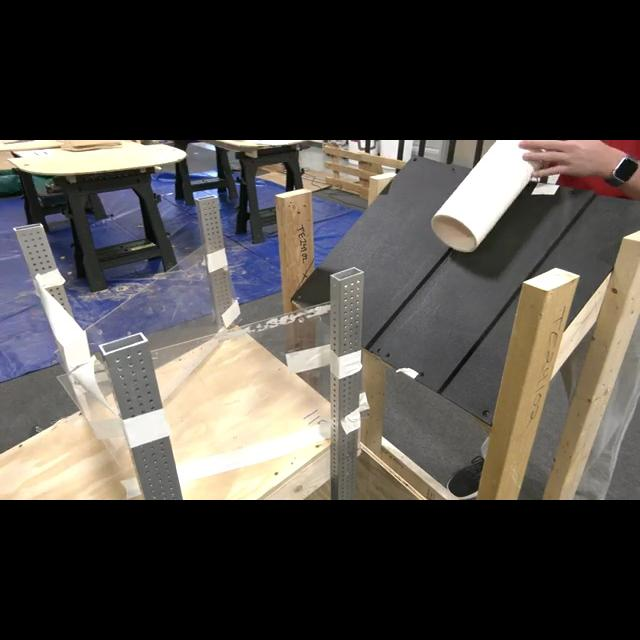CORAL: (428, 140, 544, 252)
